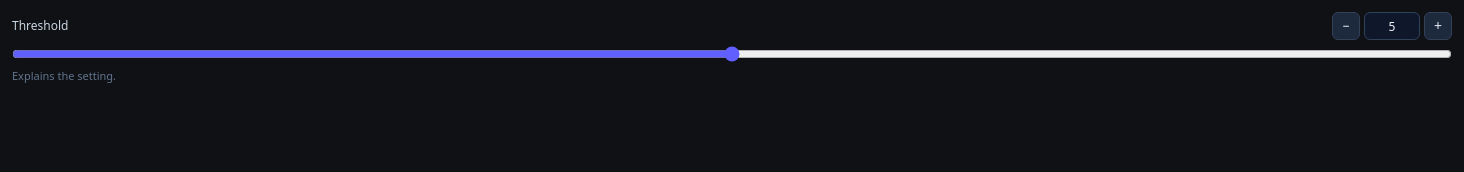
Test: NumberSliderField › applies Enter like blur
Click the field labelled "Threshold" at (1392, 26), box [1364, 12, 1420, 40]
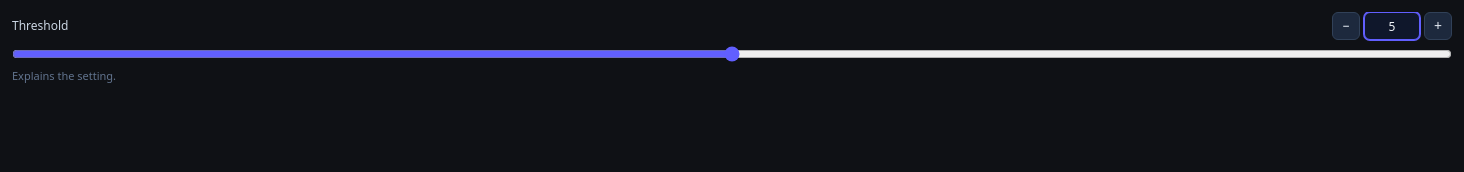
Type keys "40{Enter}"
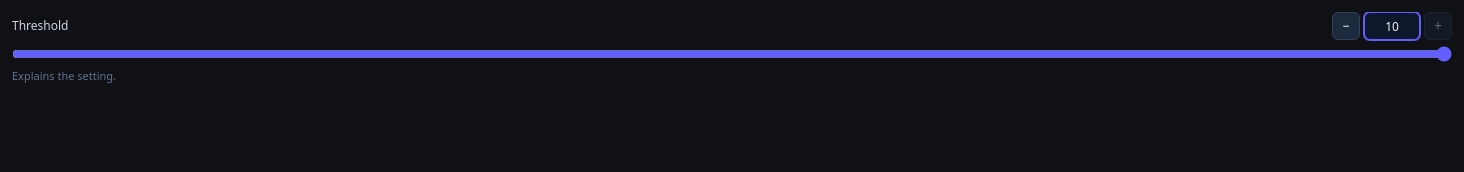
Check: the field labelled "Threshold" holds "10", box [1364, 12, 1420, 40]
